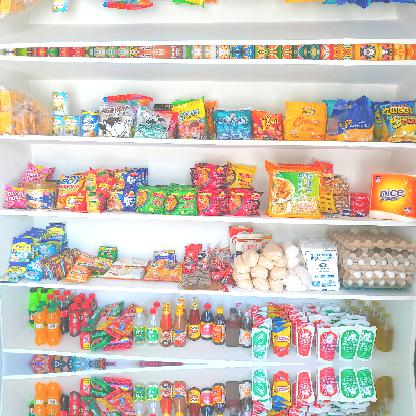Lady-s-Choice: (24, 181, 57, 211)
